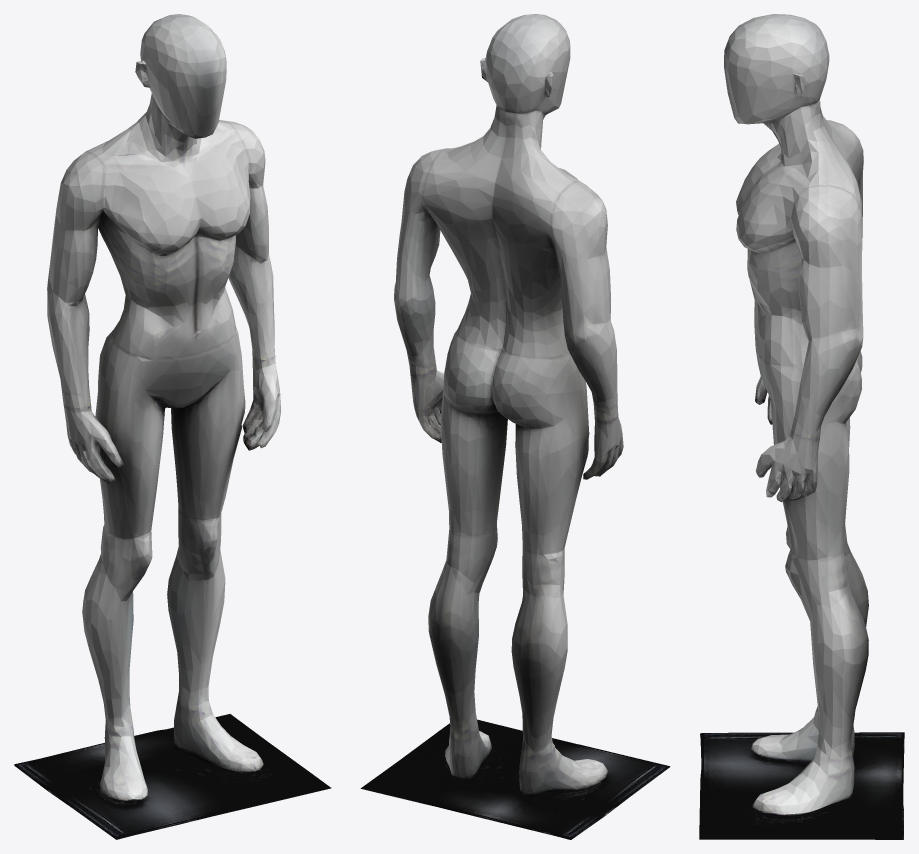
Rendered from maniquihombre.glb.
3 views of the same model, side by side, from view 1: azimuth 30°, elevation 25°; view 2: azimuth 150°, elevation 25°; view 3: azimuth 270°, elevation 25° (orthographic). The views are drawn at different scales.
Parts seen in each view (by area): view 1: world; view 2: world; view 3: world.
Part boxes in pixels (<box>): world: <box>14,14,331,839</box>; world: <box>360,14,670,839</box>; world: <box>699,14,904,839</box>.
Bounding box in the file's own units: 0.2982 × 1 × 0.2425.
1 material, 1 textured.
